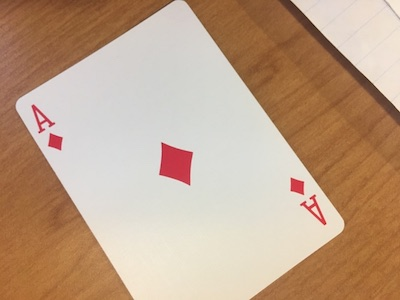AceOfDiamonds: (15, 1, 348, 300)
